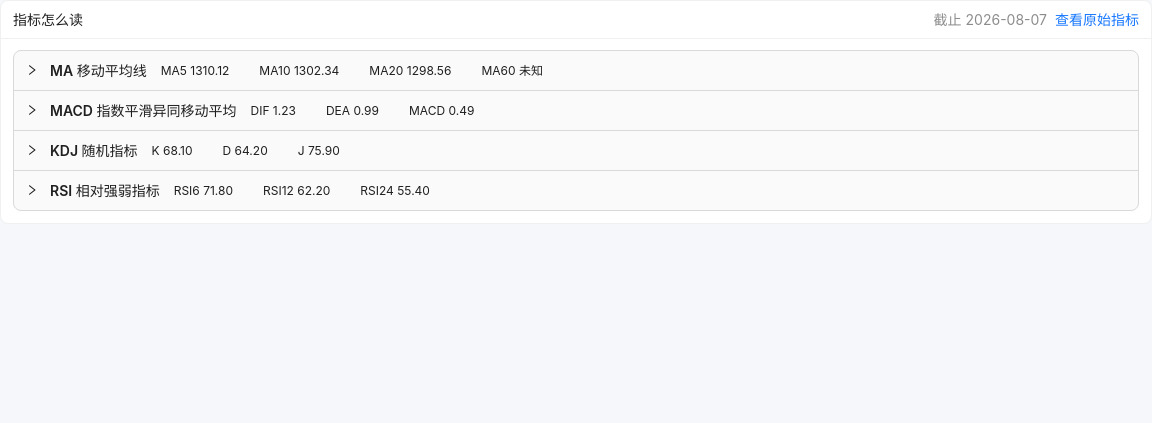
Test: IndicatorGuide › exposes raw values, shared knowledge, and interpretation limits
Check: the text "截止 2026-08-07" is shown, box [934,10,1047,28]
What coordinates should you click on to do the following:
click the button "MACD 指数平滑异同移动平均 DIF 1.23 DEA 0.99 MACD 0.49"
I would click on:
 (254, 111)
Its box is [26,100,482,122].
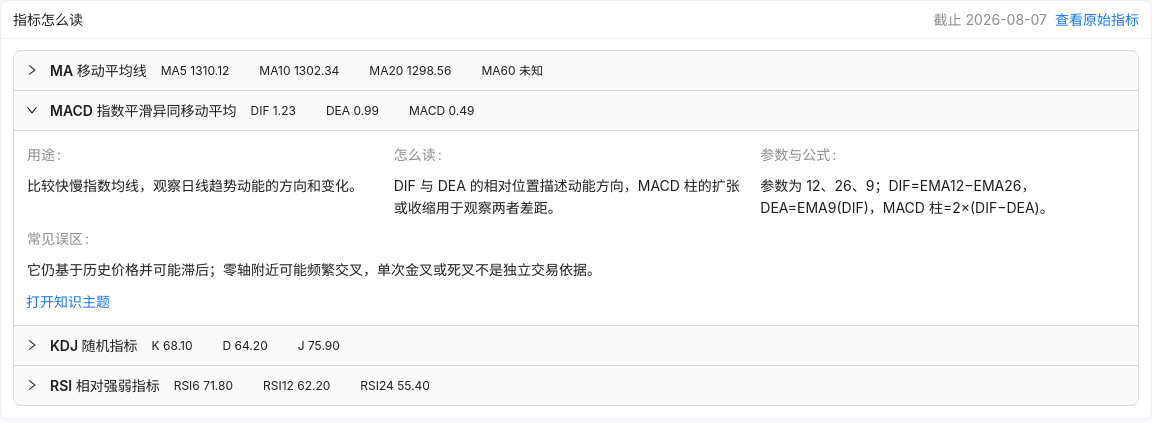
Check: the text "常见误区" is shown, box [27,228,97,250]
Check: the text "它仍基于历史价格并可能滞后；零轴附近可能频繁交叉，单次金叉或死叉不是独立交易依据。" is shown, box [27,261,601,278]
